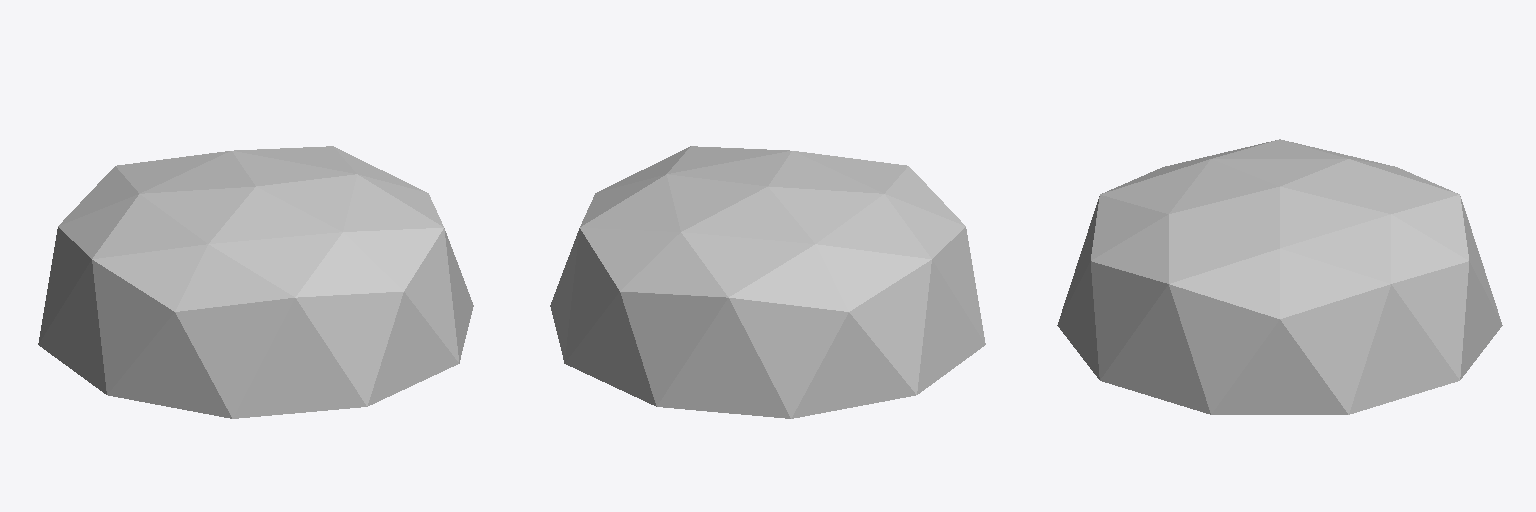
File: ecm.obj
3 renders of one model, left to right at view 1: azimuth 30°, elevation 25°; view 2: azimuth 150°, elevation 25°; view 3: azimuth 270°, elevation 25°, orthographic.
Parts seen in each view (by area): view 1: Icosphere; view 2: Icosphere; view 3: Icosphere.
Boxes of the visible parts, box(x1,y1,x2,y2) form: Icosphere: box(38, 146, 473, 418); Icosphere: box(550, 146, 985, 418); Icosphere: box(1057, 139, 1502, 414).
Bounding box in the file's own units: 1.9 × 0.6881 × 2.